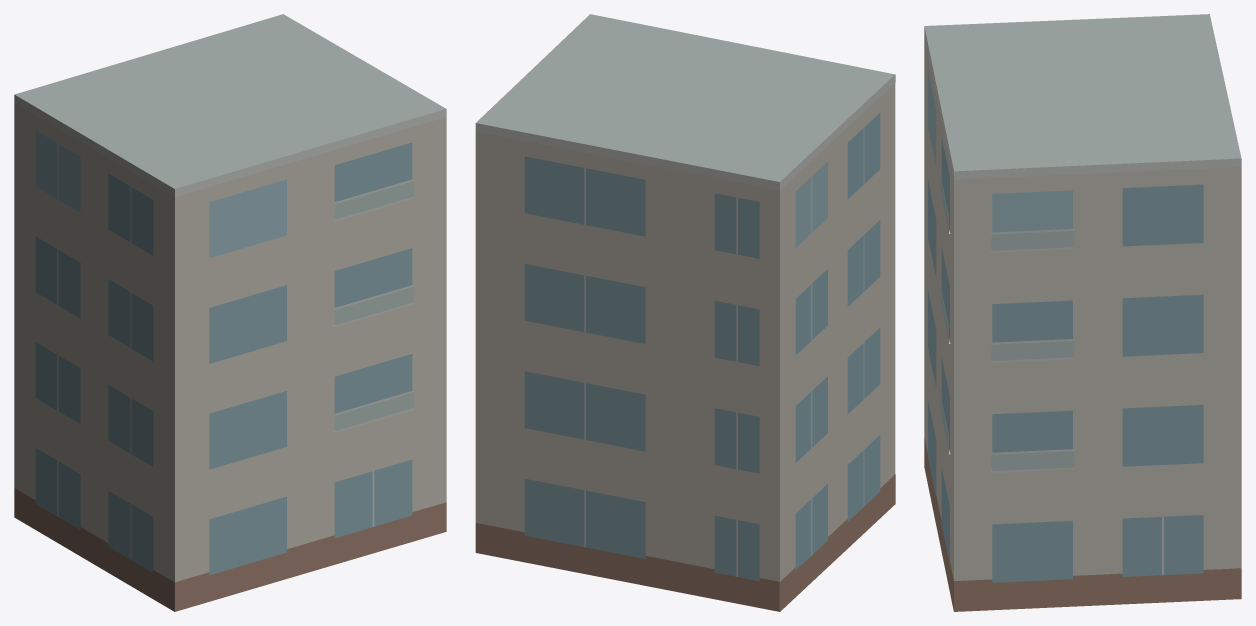
Rendered from survey-upis-32924572.glb.
3 renders of one model, left to right at view 1: azimuth 30°, elevation 25°; view 2: azimuth 150°, elevation 25°; view 3: azimuth 270°, elevation 25°, orthographic. The views are drawn at different scales.
Parts seen in each view (by area): view 1: survey-upis-32924572.tmp; view 2: survey-upis-32924572.tmp; view 3: survey-upis-32924572.tmp.
Boxes of the visible parts, x1=… form: survey-upis-32924572.tmp: x1=14, y1=14, x2=446, y2=611; survey-upis-32924572.tmp: x1=475, y1=14, x2=895, y2=611; survey-upis-32924572.tmp: x1=924, y1=14, x2=1241, y2=611.
Size of the model in its own units: 9.74 by 12.7 by 8.3.
